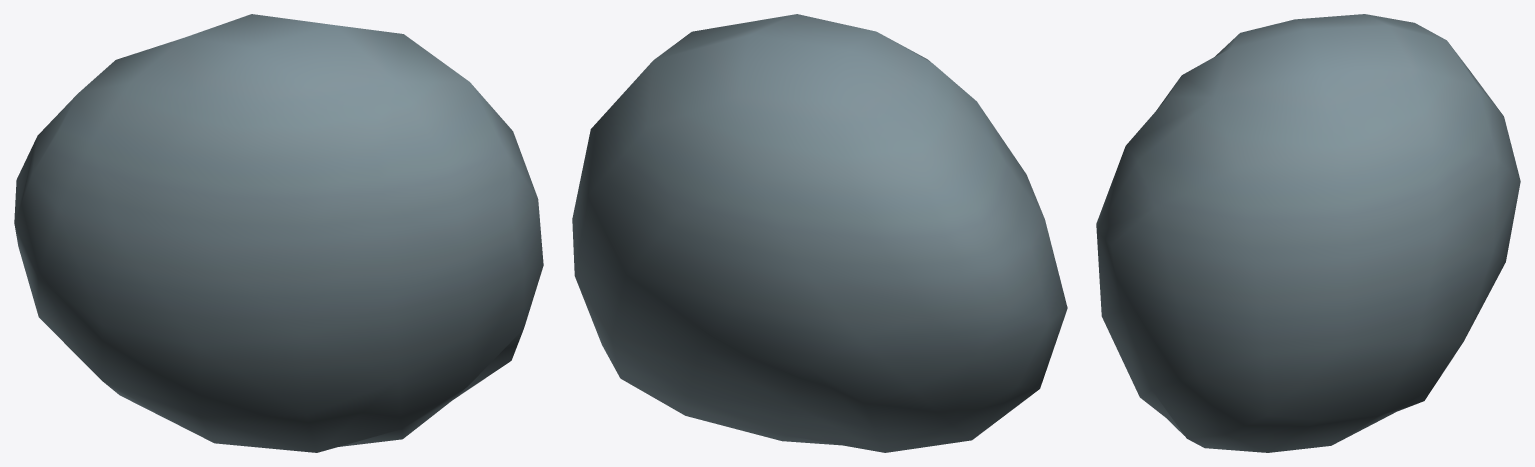
File: Rock-Smooth-3.fbx
3 views of the same model, side by side, from view 1: azimuth 30°, elevation 25°; view 2: azimuth 150°, elevation 25°; view 3: azimuth 270°, elevation 25° (orthographic). The views are drawn at different scales.
Parts seen in each view (by area): view 1: Rock-Smooth-3; view 2: Rock-Smooth-3; view 3: Rock-Smooth-3.
Boxes of the visible parts, x1=… form: Rock-Smooth-3: x1=14, y1=14, x2=543, y2=452; Rock-Smooth-3: x1=572, y1=14, x2=1067, y2=452; Rock-Smooth-3: x1=1096, y1=14, x2=1520, y2=452.
Size of the model in its own units: 170 by 136 by 138.
